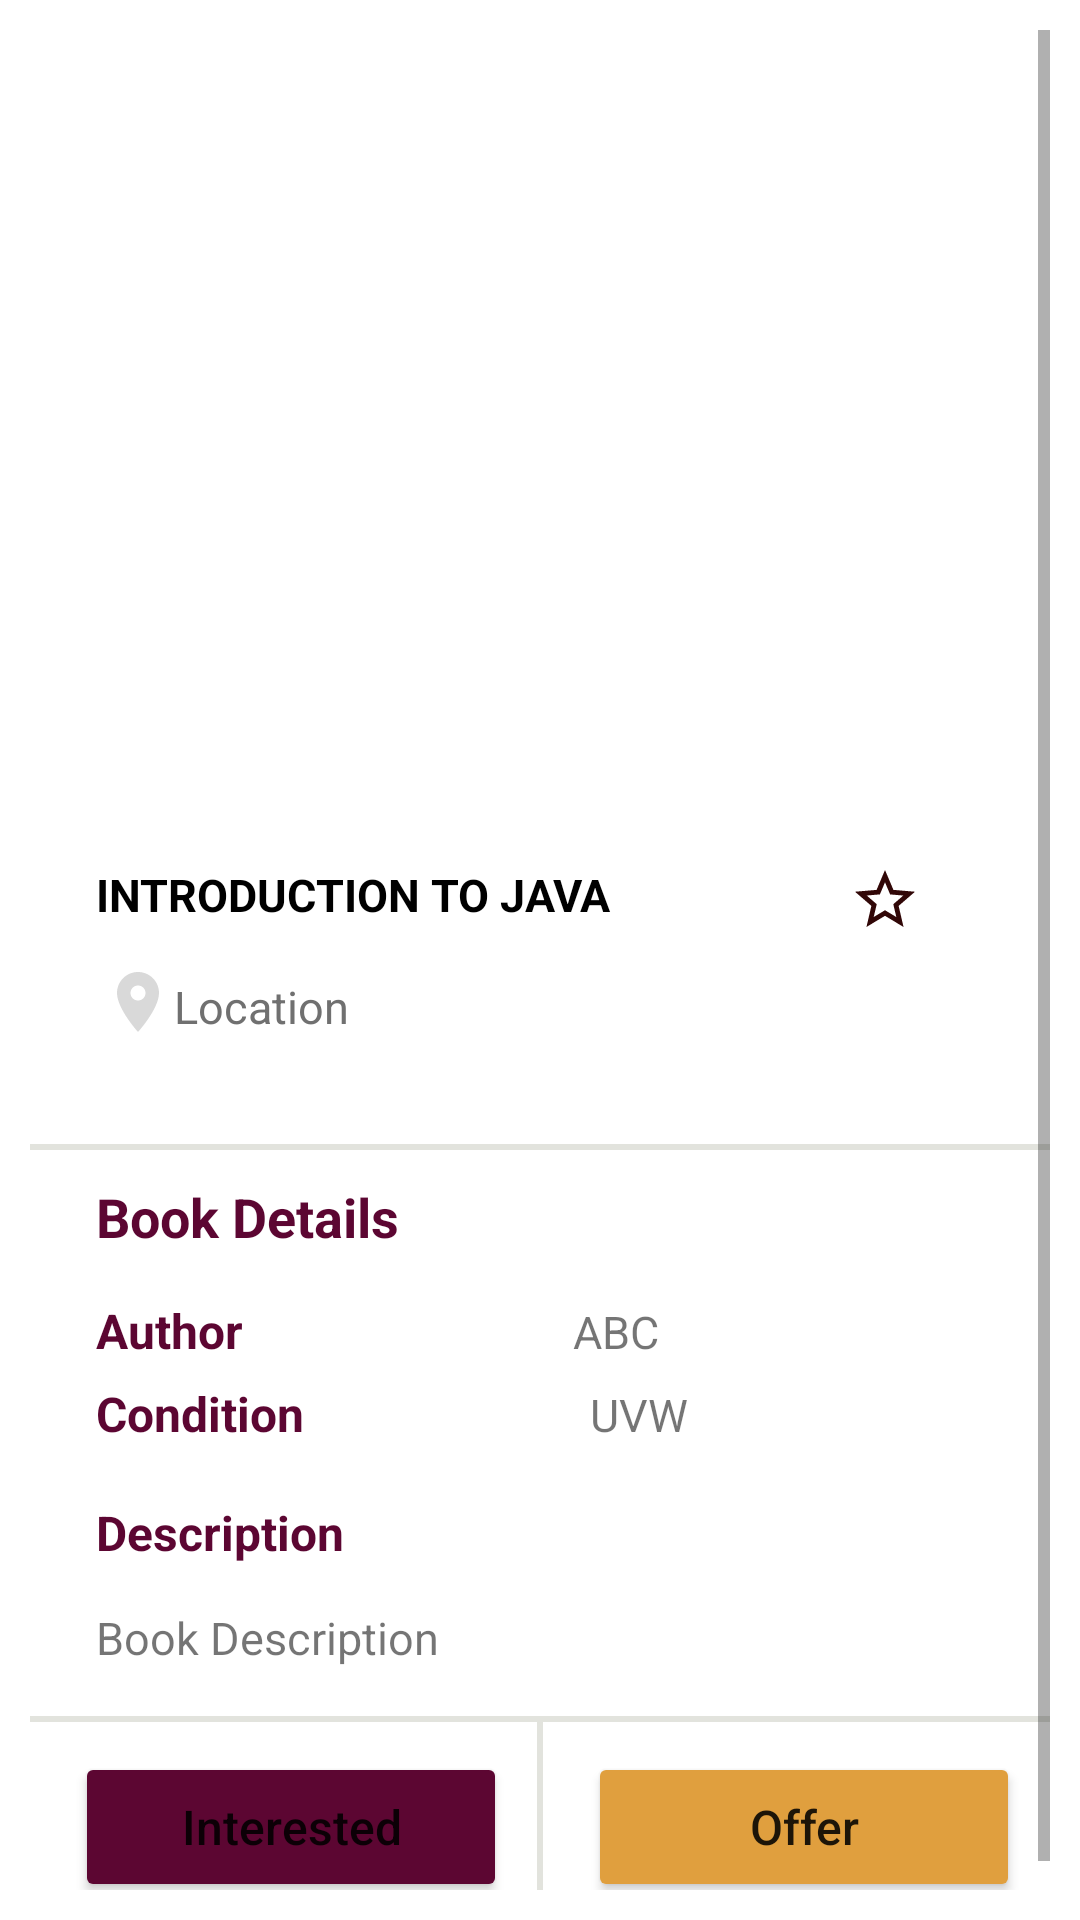

Named icons in this screenshot (1080 × 1920) and their centers, point (x, y):
favourite: point (885, 898)
